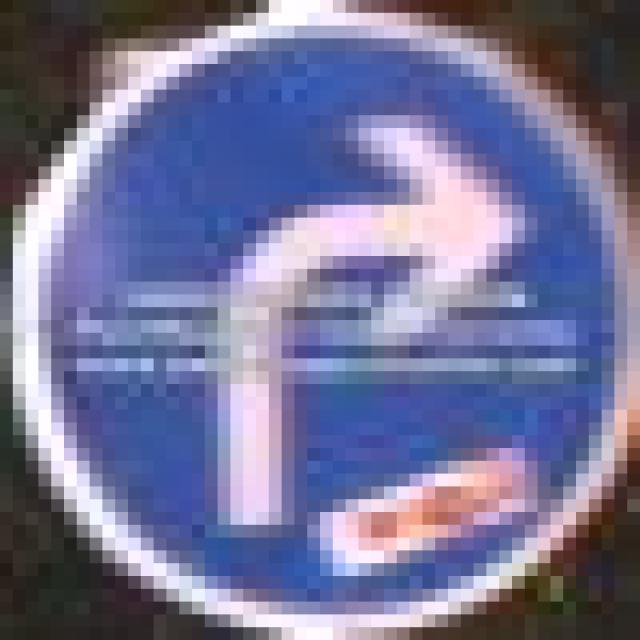railway_crossing: (51, 13, 602, 589)
